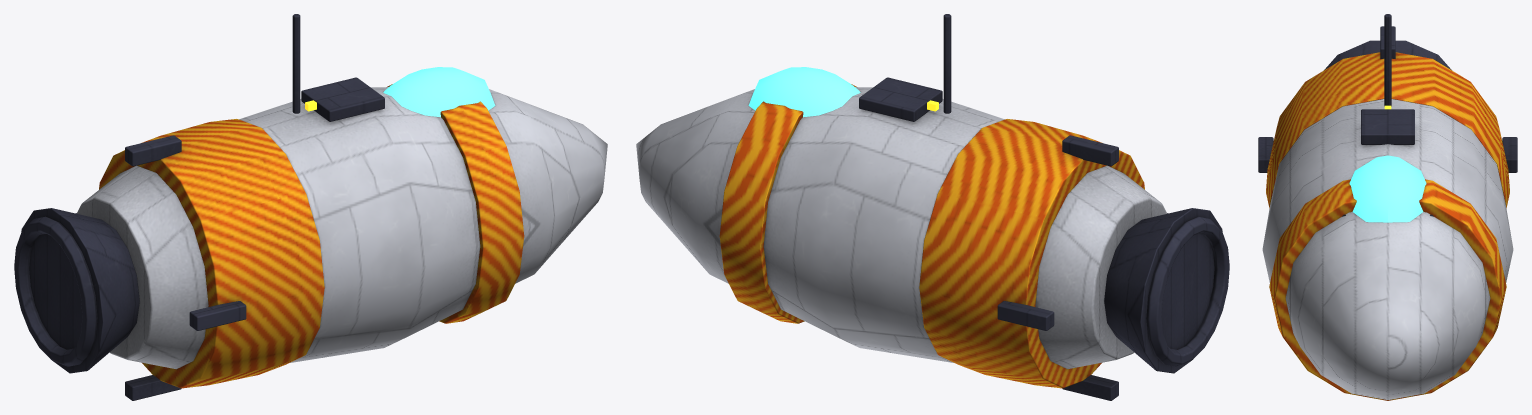
The model's file is debris_pod.glb.
3 renders of one model, left to right at view 1: azimuth 30°, elevation 25°; view 2: azimuth 150°, elevation 25°; view 3: azimuth 270°, elevation 25°, orthographic. The views are drawn at different scales.
Parts seen in each view (by area): view 1: Hull, Stripe, Fittings, Window; view 2: Hull, Stripe, Fittings, Window; view 3: Hull, Stripe, Fittings, Window.
Boxes of the visible parts, x1,y1,x2,y2 form: Hull: [77, 87, 607, 369]; Stripe: [99, 84, 524, 388]; Fittings: [14, 14, 384, 400]; Window: [383, 67, 495, 117]; Hull: [636, 87, 1166, 369]; Stripe: [719, 84, 1144, 388]; Fittings: [859, 14, 1229, 400]; Window: [748, 67, 860, 117]; Hull: [1262, 99, 1513, 399]; Stripe: [1266, 52, 1509, 400]; Fittings: [1258, 14, 1517, 172]; Window: [1349, 155, 1426, 222].
Bounding box in the file's own units: 17.92 × 10.52 × 7.65.
Materials: 6 (4 with a texture image).
